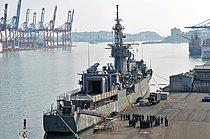MIL_Ship: (46, 16, 164, 128)
